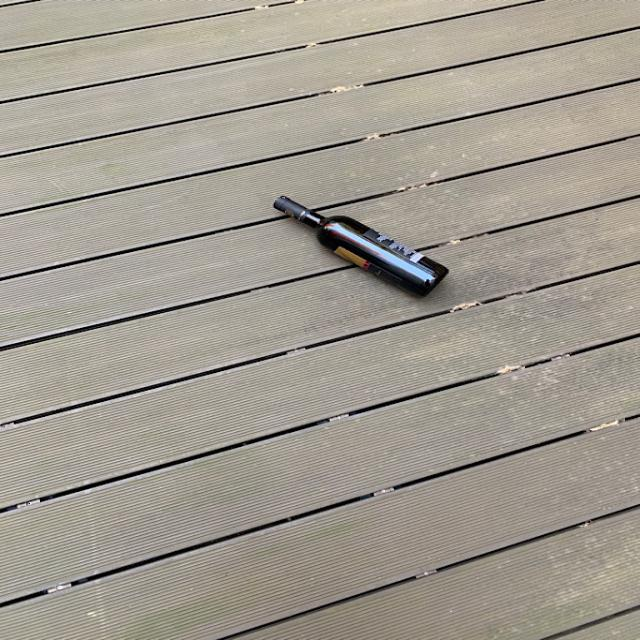litter: (271, 194, 455, 304)
